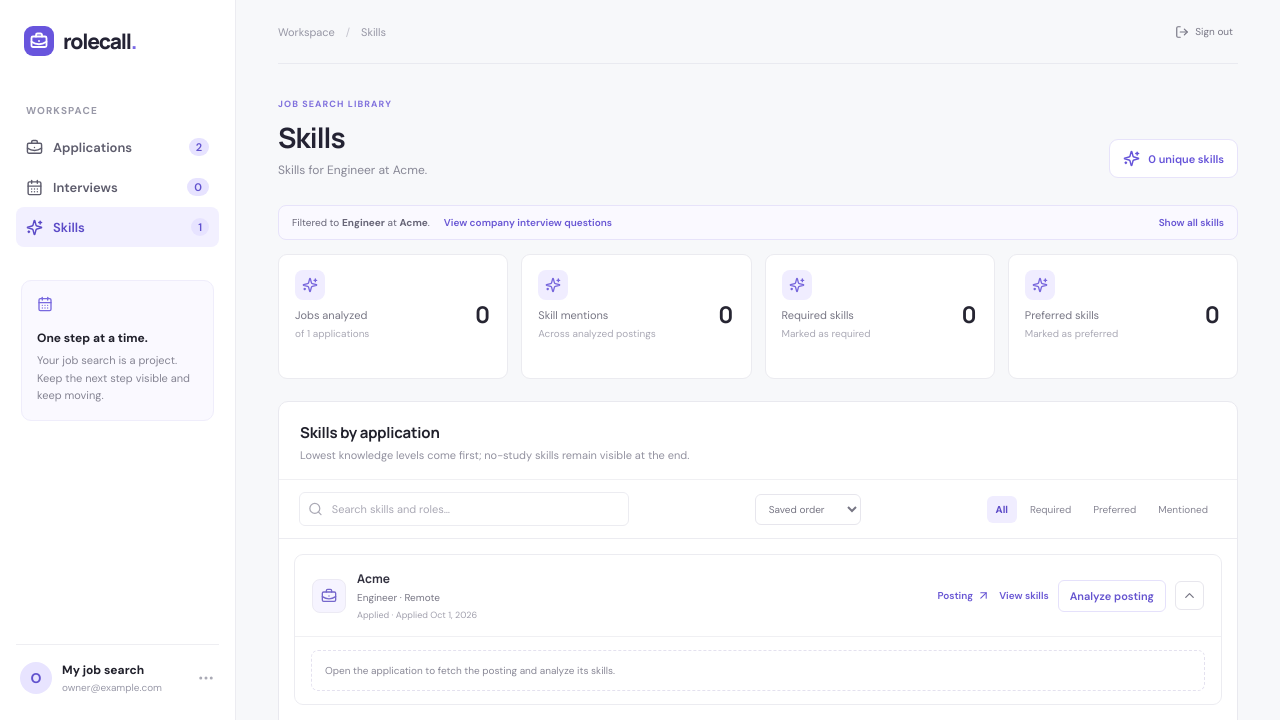
Scenario: application-scoped Skills navigation › keeps an unanalyzed application scoped and offers the existing analysis action
The width and height of the screenshot is (1280, 720).
Expected: the button "Analyze posting" is shown, [1058,580,1166,612]
Expected: the text "Open the application to fetch the posting and analyze its skills." is shown, [311,650,1205,691]
Click the button "Skills 1". click: (118, 227)
box: [16,207,219,247]
(page scrolled)
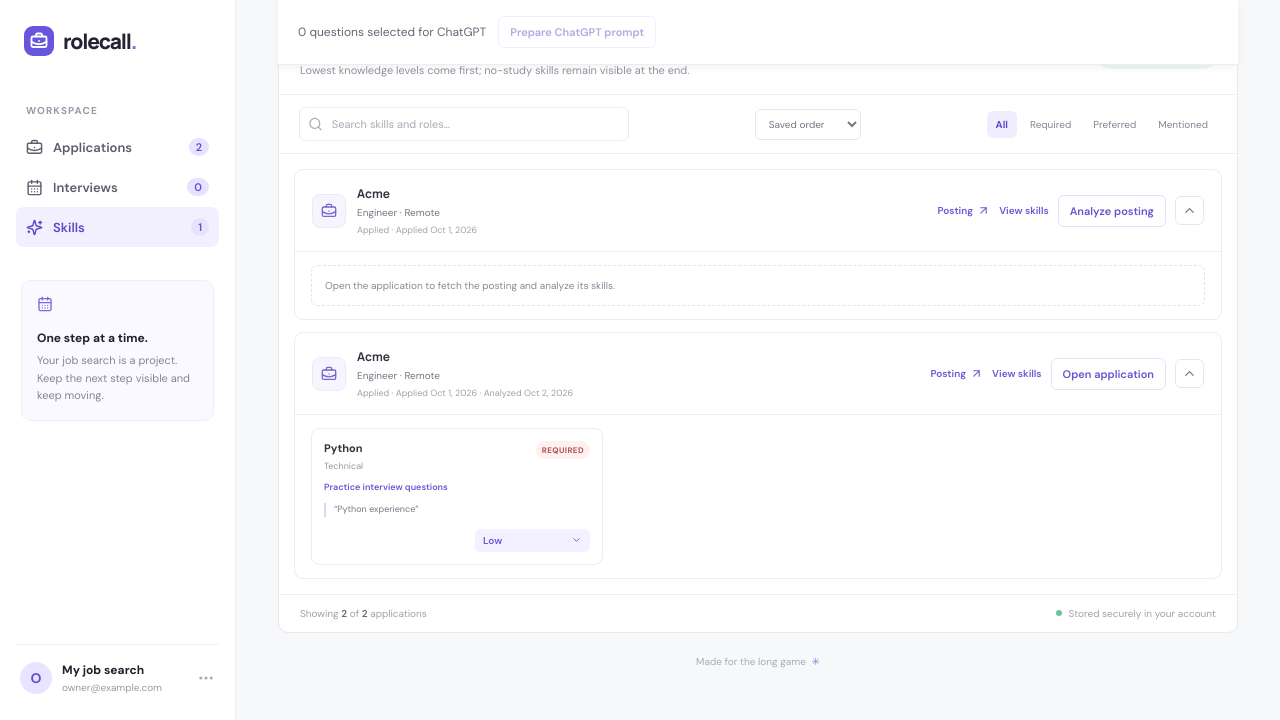
Result: the text "Python experience" is shown at [337,503,415,515]
